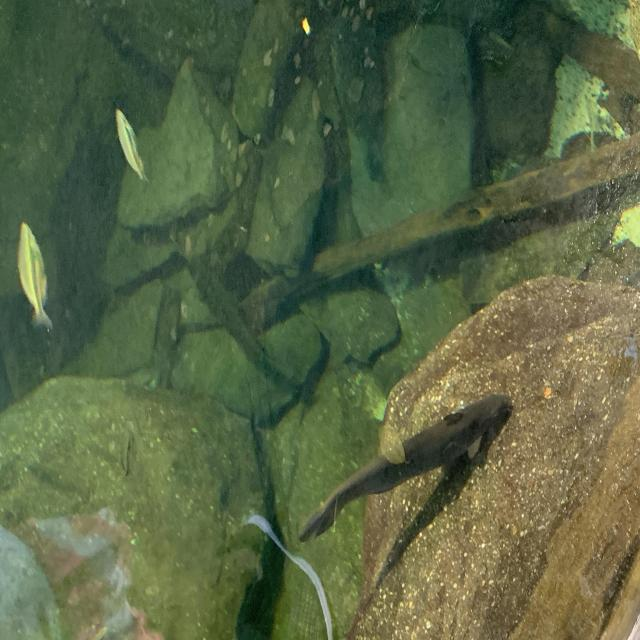fish: (297, 391, 515, 550), (16, 219, 56, 333), (112, 105, 153, 181)
